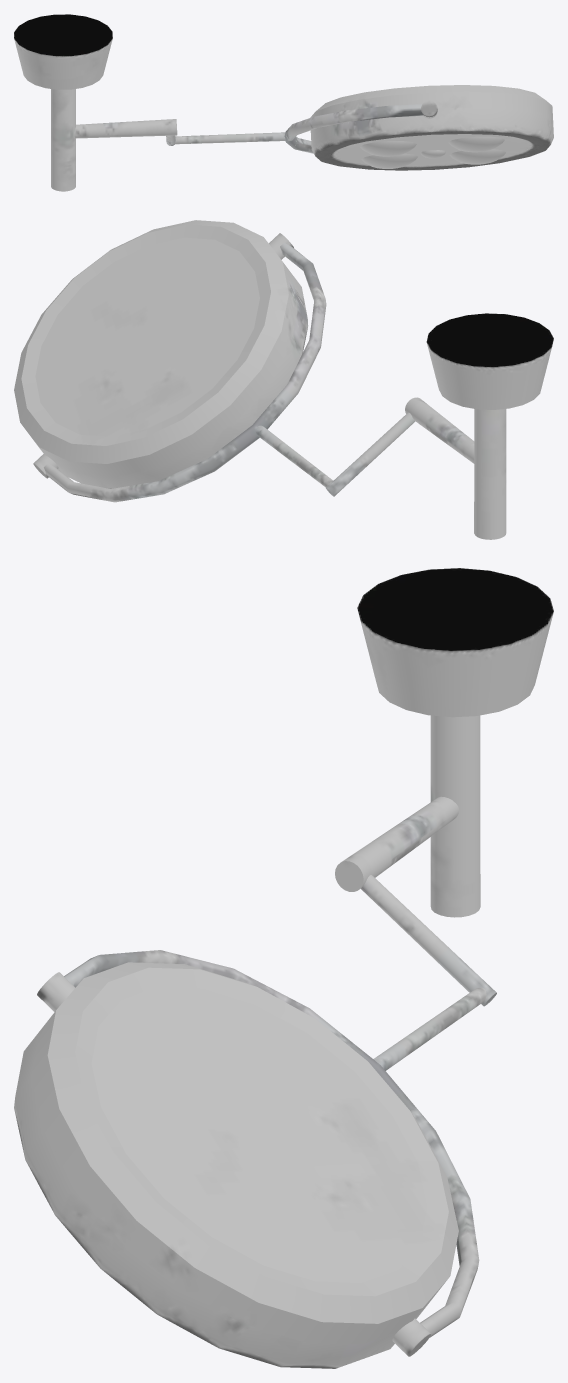
The model's file is prop_surgical_lamp.glb.
3 renders of one model, top to bottom at view 1: azimuth 30°, elevation 25°; view 2: azimuth 150°, elevation 25°; view 3: azimuth 270°, elevation 25°, orthographic. The views are drawn at different scales.
Parts seen in each view (by area): view 1: Surgical_Lamp_SmallGroup_0; view 2: Surgical_Lamp_SmallGroup_0; view 3: Surgical_Lamp_SmallGroup_0.
Boxes of the visible parts, <box> form: Surgical_Lamp_SmallGroup_0: <box>14,14,553,191</box>; Surgical_Lamp_SmallGroup_0: <box>14,220,553,539</box>; Surgical_Lamp_SmallGroup_0: <box>14,568,553,1368</box>.
Size of the model in its own units: 1.2 by 0.5116 by 0.618.
Materials: 1 (1 with a texture image).
